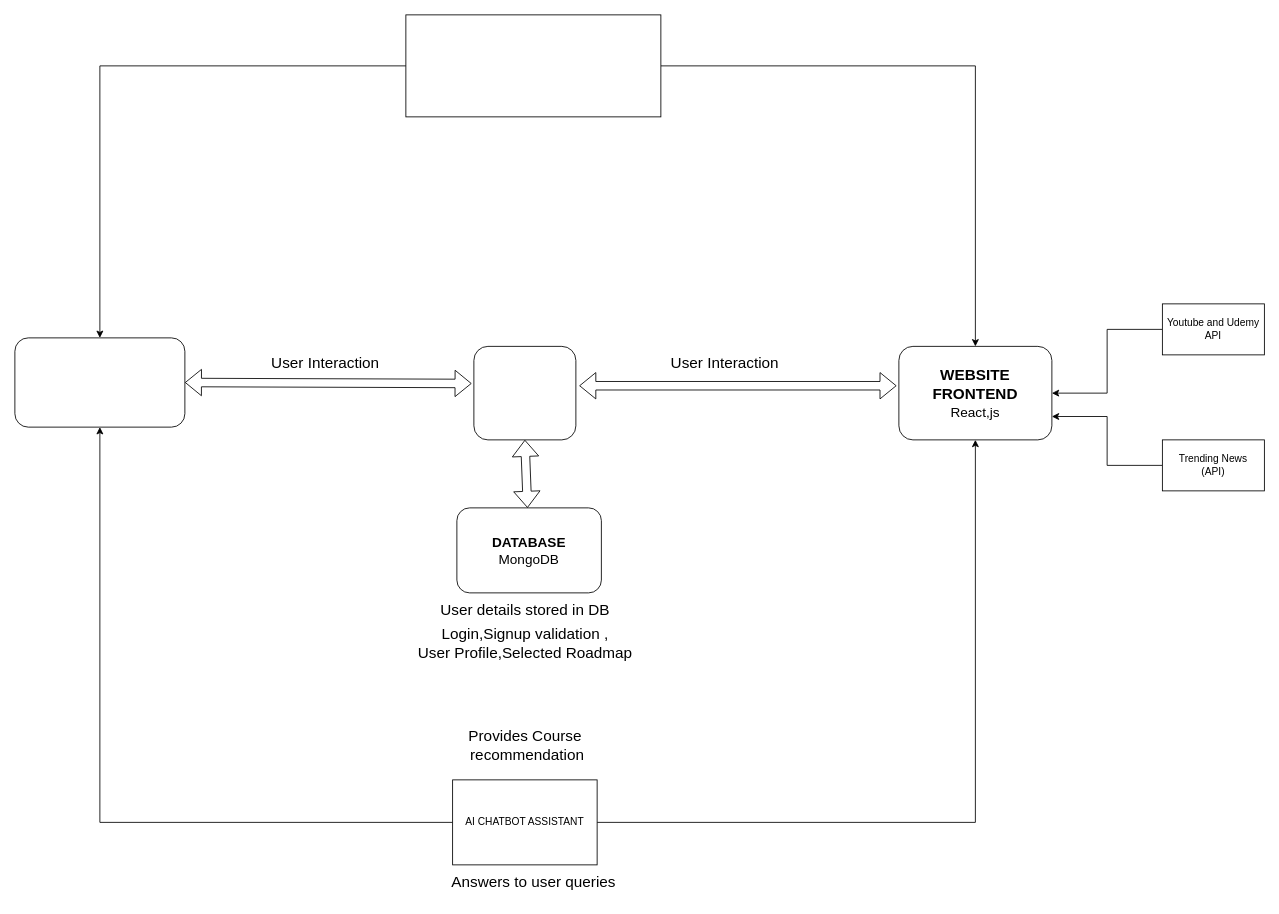
The diagram is 1279 pixels wide and 914 high, and some of its shapes have lost their labels. Here are the shapes that lost their labels. From the top down, the centre of each, then its label:
pixel 533 65: SKILL UP
pixel 99 382: MOBILE APP Flutter
pixel 524 393: WEBSITE BACKEND Express.js
